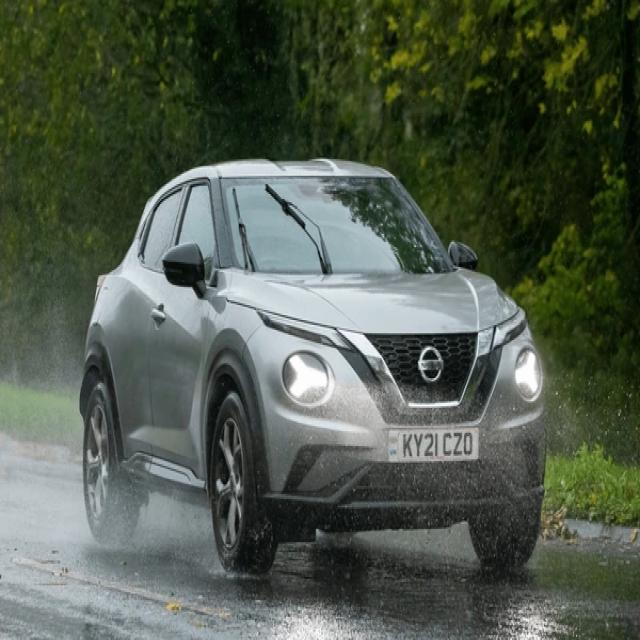nissan: (419, 344, 447, 386)
